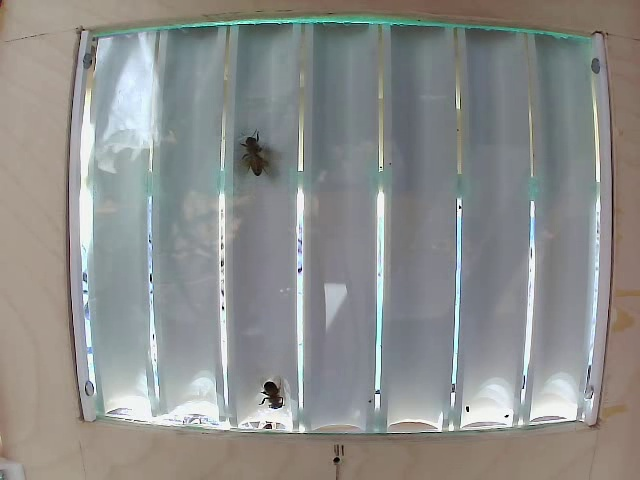bee: (240, 124, 280, 182), (259, 366, 294, 415)
